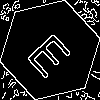E: (25, 25, 80, 80)
